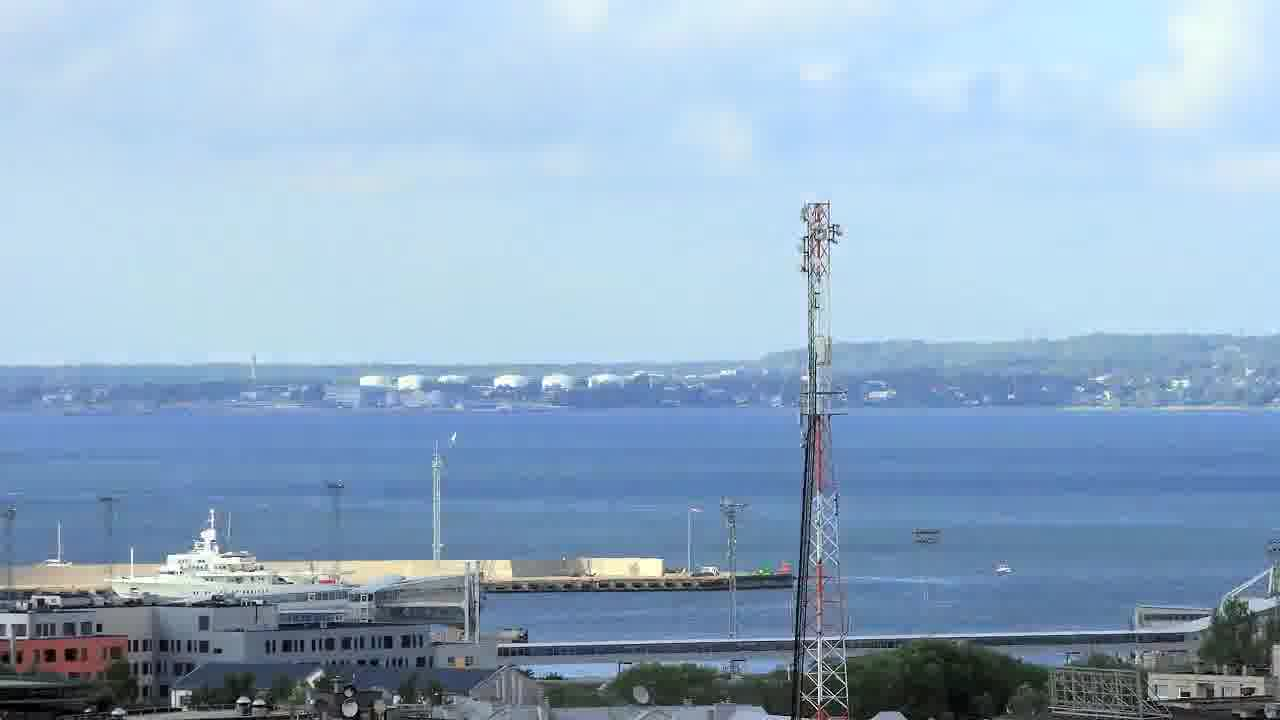type-3: (75, 497, 364, 606)
type-4: (898, 518, 958, 552), (980, 544, 1023, 587)
